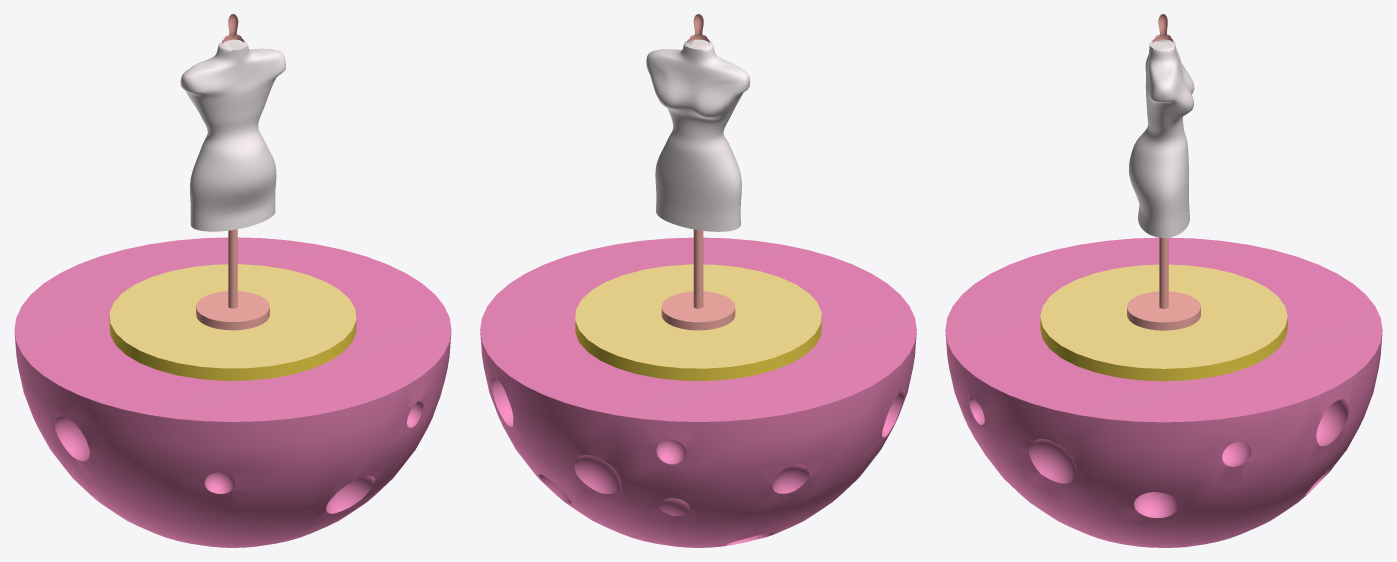
The model's file is sun_mode_v2.gltf.
The picture shows the model from 3 angles, left to right: view 1: azimuth 30°, elevation 25°; view 2: azimuth 150°, elevation 25°; view 3: azimuth 270°, elevation 25°; orthographic projection.
Visible parts, largest first — view 1: Sphere, Cylinder.2-Mat.19, Loft, Cylinder.2-Mat, Sphere.3 (×3), Cylinder.1, Cylinder; view 2: Sphere, Cylinder.2-Mat.19, Loft, Sphere.3 (×4), Cylinder.2-Mat, Cylinder.1, Cylinder; view 3: Sphere, Cylinder.2-Mat.19, Loft, Sphere.3 (×4), Cylinder.2-Mat, Cylinder.1, Cylinder.
Part boxes in pixels (x1,y1,x2,y2): Sphere: [14, 237, 451, 547]; Cylinder.2-Mat.19: [109, 264, 356, 368]; Loft: [180, 39, 285, 231]; Cylinder.2-Mat: [109, 316, 356, 380]; Sphere.3 (×3): [55, 416, 374, 513]; Cylinder.1: [196, 291, 269, 330]; Cylinder: [228, 229, 237, 308]; Sphere: [480, 237, 916, 547]; Cylinder.2-Mat.19: [575, 264, 821, 368]; Loft: [646, 39, 750, 231]; Sphere.3 (×4): [491, 378, 809, 493]; Cylinder.2-Mat: [575, 317, 821, 380]; Cylinder.1: [661, 291, 735, 330]; Cylinder: [693, 229, 703, 308]; Sphere: [945, 237, 1382, 547]; Cylinder.2-Mat.19: [1040, 264, 1287, 368]; Loft: [1129, 39, 1194, 237]; Sphere.3 (×4): [1029, 399, 1348, 517]; Cylinder.2-Mat: [1040, 318, 1287, 381]; Cylinder.1: [1127, 291, 1200, 330]; Cylinder: [1159, 237, 1168, 308].
Size of the model in its own units: 194 by 251 by 194.
